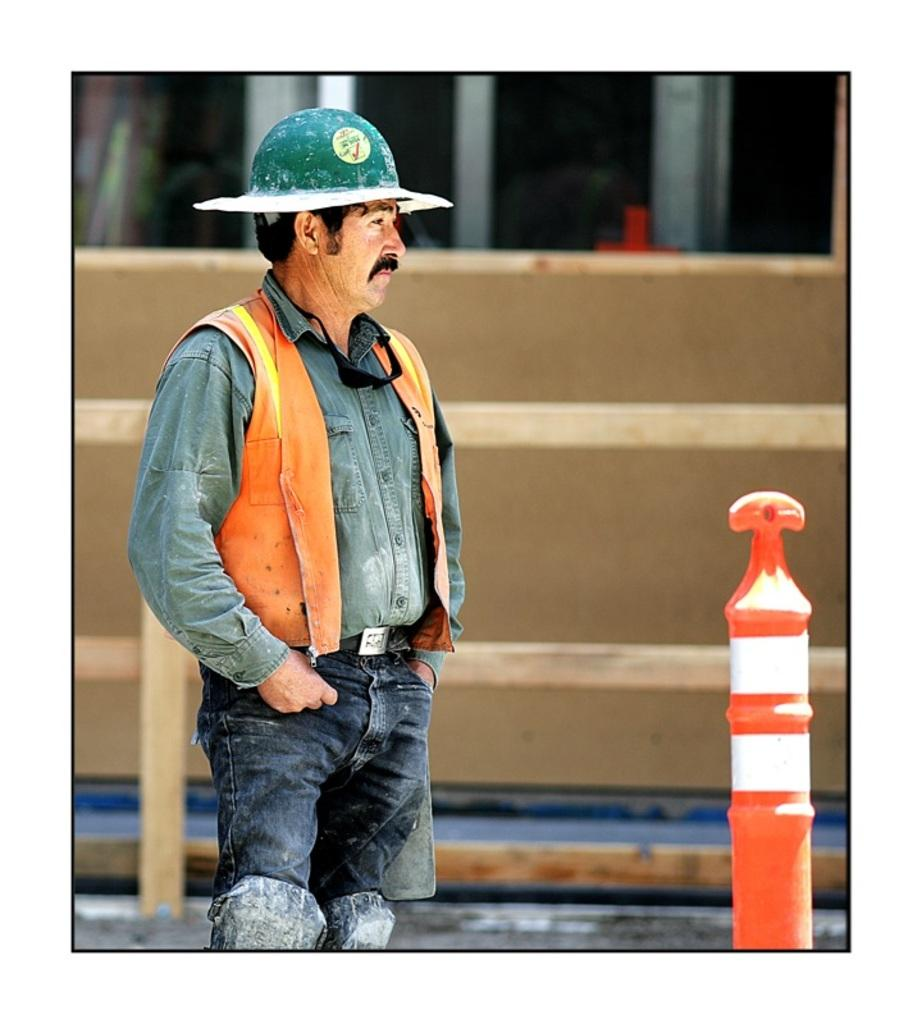Hat: (194, 108, 450, 218)
